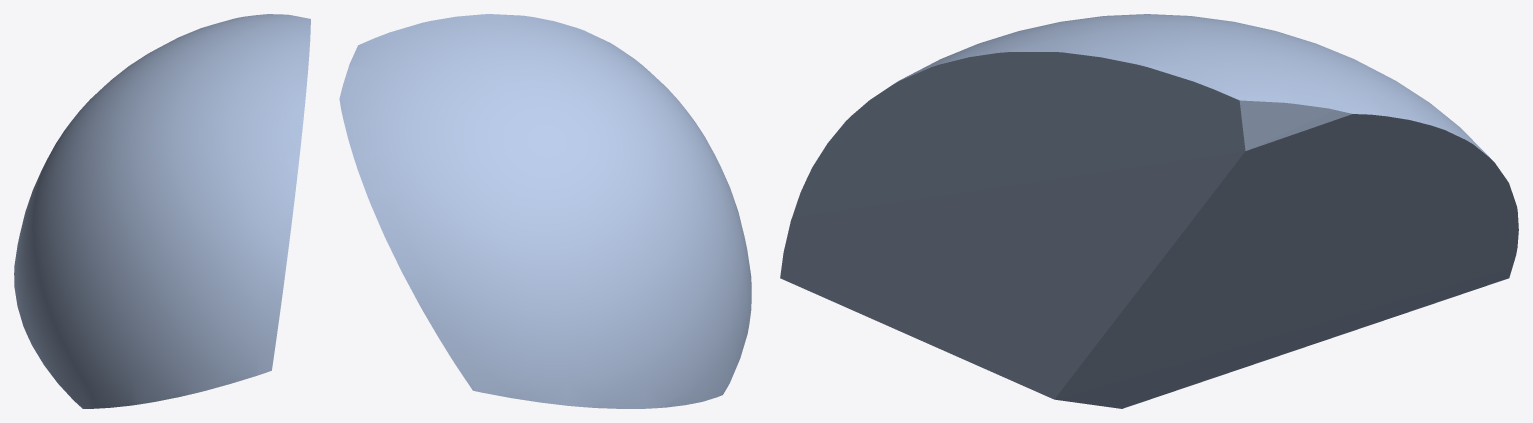
Rendered from Ball3_1.fbx.
3 renders of one model, left to right at view 1: azimuth 30°, elevation 25°; view 2: azimuth 150°, elevation 25°; view 3: azimuth 270°, elevation 25°, orthographic. The views are drawn at different scales.
Visible parts, largest first — view 1: Cube_cell.054; view 2: Cube_cell.054; view 3: Cube_cell.054.
Boxes of the visible parts, x1,y1,x2,y2 form: Cube_cell.054: (14,14,310,408); Cube_cell.054: (339,14,751,408); Cube_cell.054: (780,14,1518,408).
Size of the model in its own units: 95.11 by 93.64 by 135.
